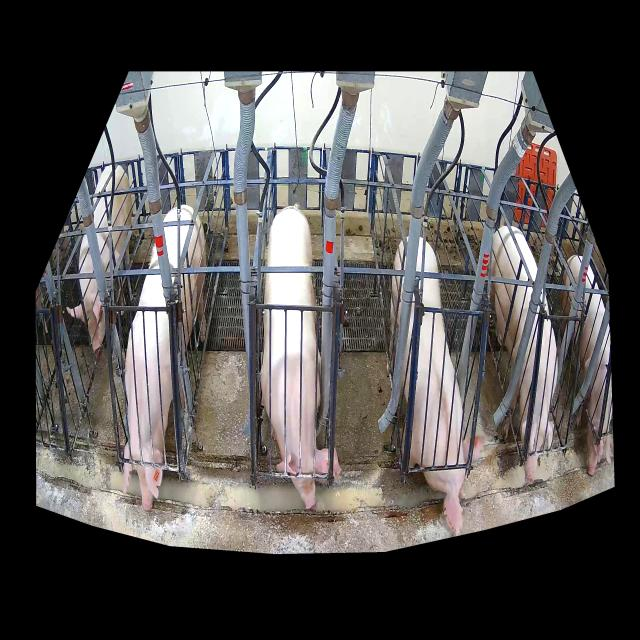pig: (388, 236, 484, 535), (122, 206, 208, 509), (261, 209, 341, 509), (490, 225, 558, 482), (67, 165, 132, 360), (558, 256, 612, 477)
